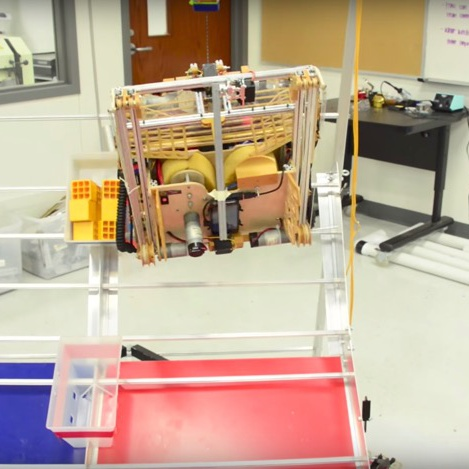robot: (107, 61, 328, 265)
